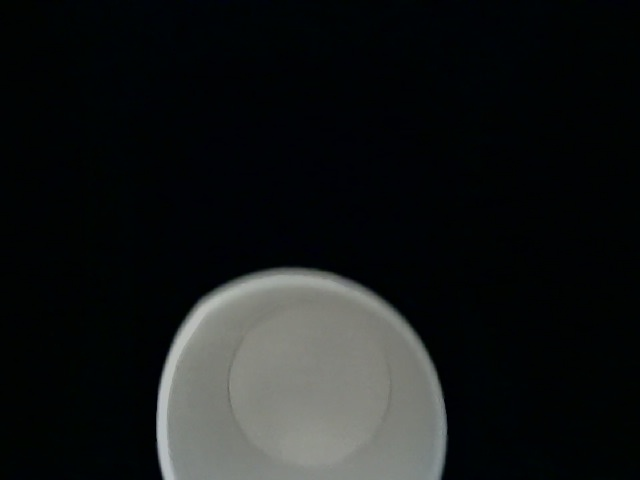KHSLJ: (62, 250, 596, 480)
